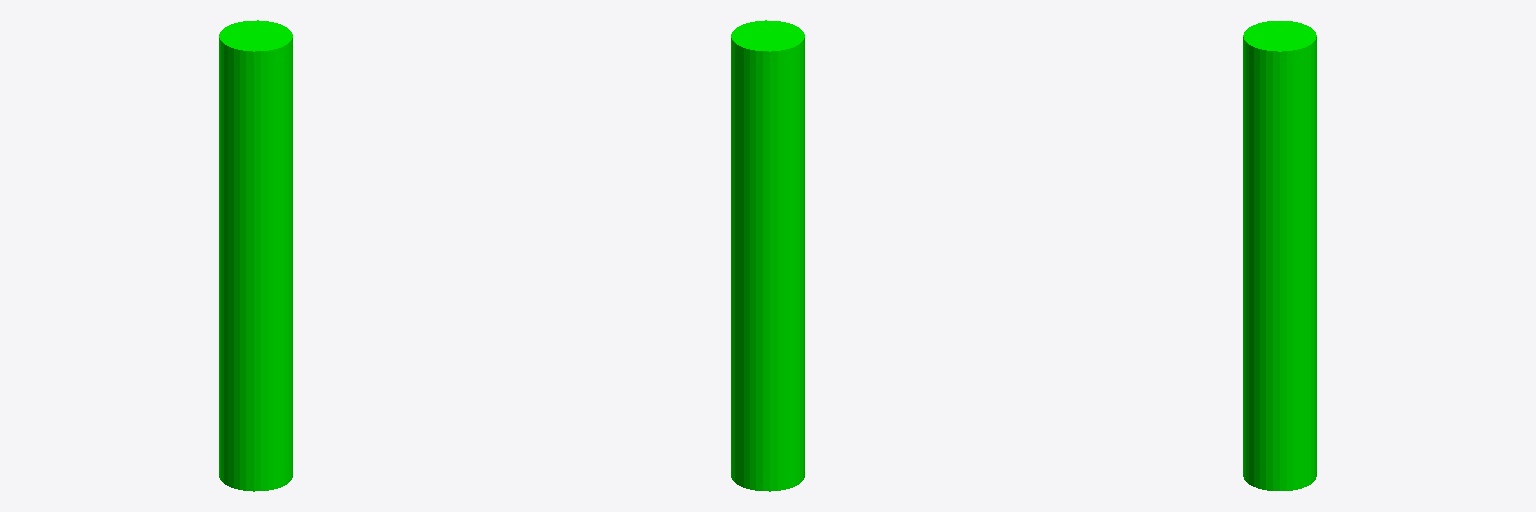
robot.urdf — CYLINDERD:
<?xml version="1.0"?>
<robot name="CYLINDERD">
<link name="base_link">
<inertial>
<origin xyz="0 0 0" rpy="0 0 0"/>
<mass value="1"/>
<inertia ixx="0.000683333" ixy="0" ixz="0" iyy="0.000683333" iyz="0" izz="0.000683333"/>
</inertial>
    <visual>
    <geometry>
    <cylinder length="0.155" radius="0.01175"/>
    </geometry>
	<material>
	<color rgba="0 1 0 1" />
	</material>
    </visual>
<collision>
            <origin xyz="0 0 0" rpy="0 0 0" />
            <geometry>
    <cylinder length="0.155" radius="0.01175"/>
            </geometry>
        </collision>
</link>
</robot>

--- Facts derived from the render (not from the file) ---
3 views of the same robot in one strip: view 1: azimuth 30°, elevation 25°; view 2: azimuth 150°, elevation 25°; view 3: azimuth 270°, elevation 25° (orthographic).
Model CYLINDERD with 1 links and 0 joints (none), rooted at base_link, posed every joint at zero.
Visible links, largest first — view 1: base_link; view 2: base_link; view 3: base_link.
Boxes of the visible links, x1,y1,x2,y2 form: base_link: [219, 20, 292, 491]; base_link: [731, 20, 804, 491]; base_link: [1243, 21, 1316, 490].
Bounding box of the posed robot: 0.0235 × 0.0235 × 0.155 m (x, y, z).
Geometry: primitives only (box / cylinder / sphere), no mesh files.
